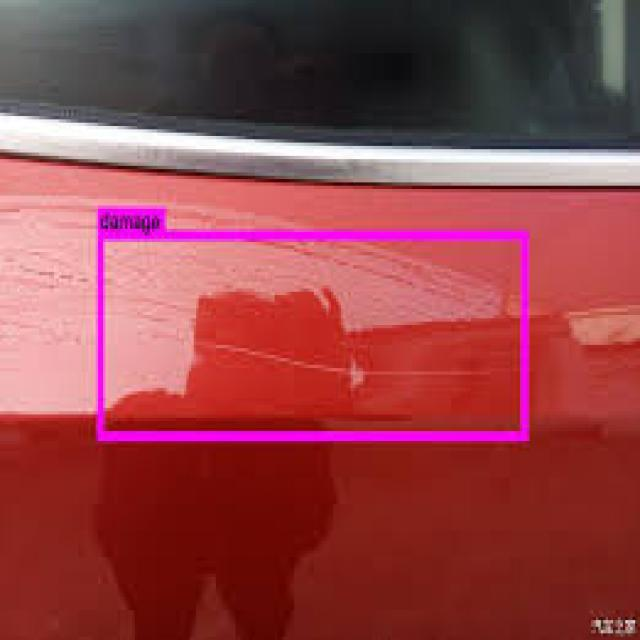dent-or-scratch: (1, 173, 524, 424)
